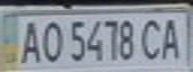4: (84, 17, 106, 62)
5: (63, 17, 87, 63)
7: (103, 16, 121, 62)
8: (118, 16, 139, 62)
A: (15, 17, 45, 64), (157, 15, 187, 61)
C: (139, 16, 166, 61)
O: (36, 18, 66, 63)
